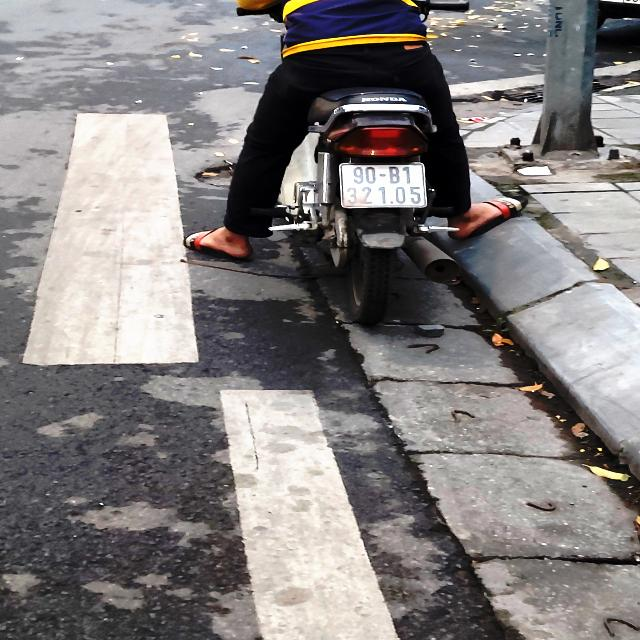license_plate: (341, 160, 431, 212)
